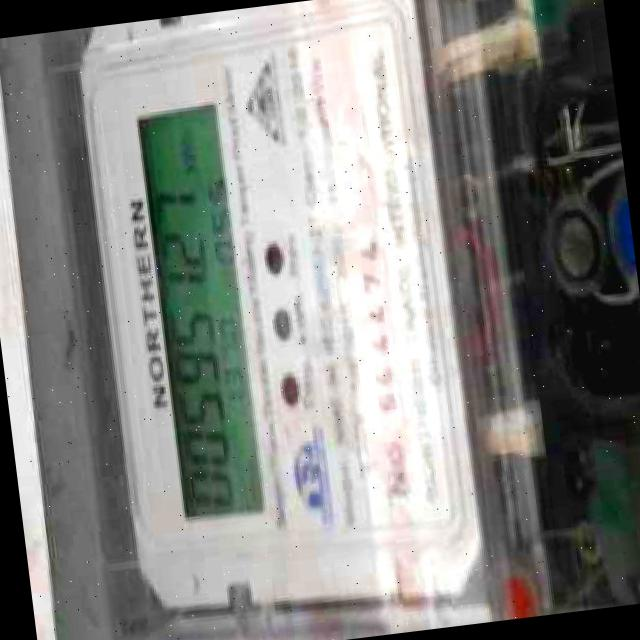LCD: (124, 82, 277, 531)
